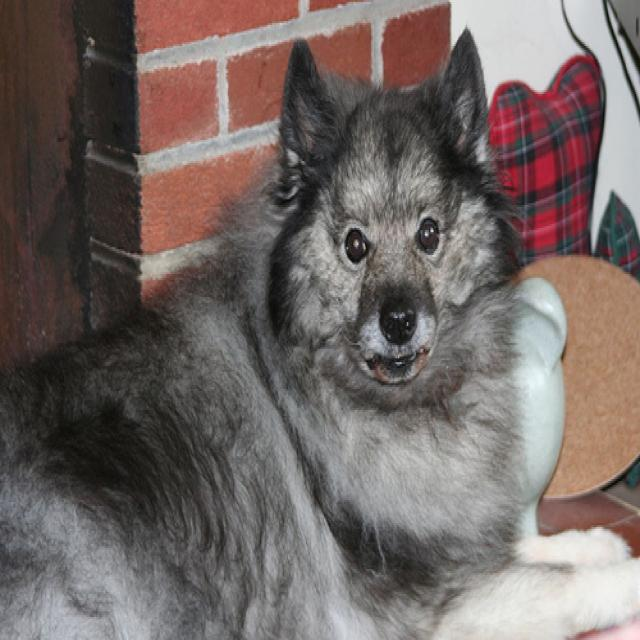dog-keeshond: (1, 10, 637, 636)
